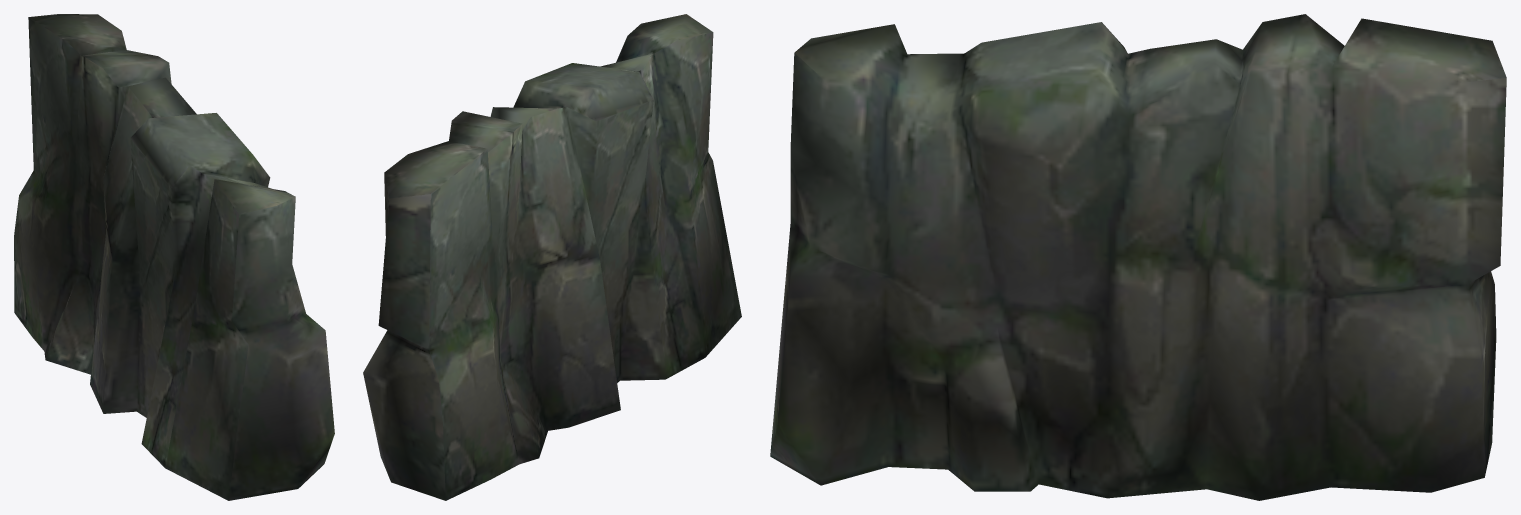
The model's file is rock_B.fbx.
The picture shows the model from 3 angles, left to right: view 1: azimuth 30°, elevation 25°; view 2: azimuth 150°, elevation 25°; view 3: azimuth 270°, elevation 25°; orthographic projection. The views are drawn at different scales.
Parts seen in each view (by area): view 1: rock_B; view 2: rock_B; view 3: rock_B.
Boxes of the visible parts, x1,y1,x2,y2 form: rock_B: (14, 14, 334, 500); rock_B: (363, 14, 741, 500); rock_B: (770, 14, 1506, 500).
Bounding box in the file's own units: 3.98 × 8.26 × 12.8.
